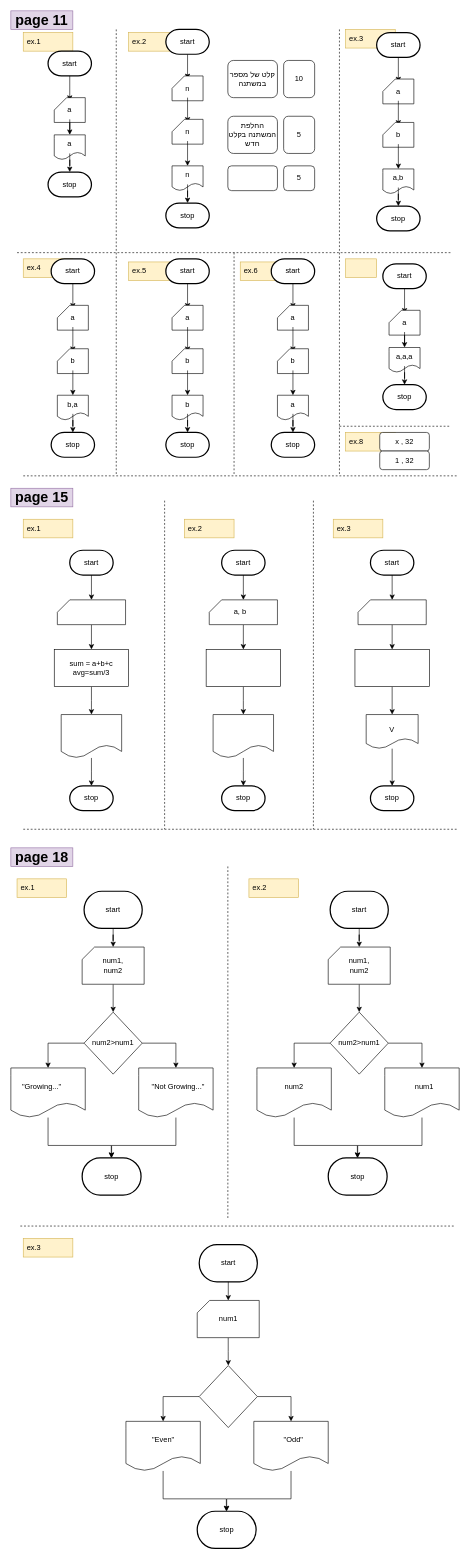
Image size: 471x1560. Some labels were removed from this diagram. Here are the shapes that lost their labels. From the top down, the centre of each, then its label:
[252,178]: הדפסת הקלט החדש
[361,267]: ex.7
[91,612]: a, b, c
[391,612]: qoter , deep
[243,668]: S = a*b H = 2*a + 2*b
[391,668]: R=qoter/2 V=3.14*R*R*deep
[91,736]: "sum = " + sum "avg =" + avg
[243,736]: "area =" + S "scope =" + H
[228,1396]: num1%2==0
